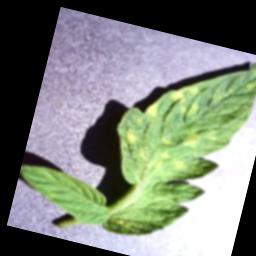Leaf_Mold: (93, 34, 256, 256)
